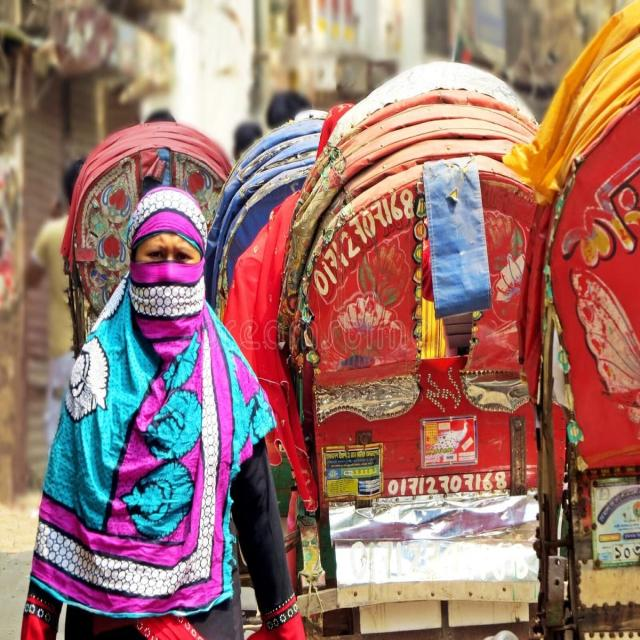Rickshaw: (284, 43, 558, 640)
pedestrian: (28, 186, 299, 640)
